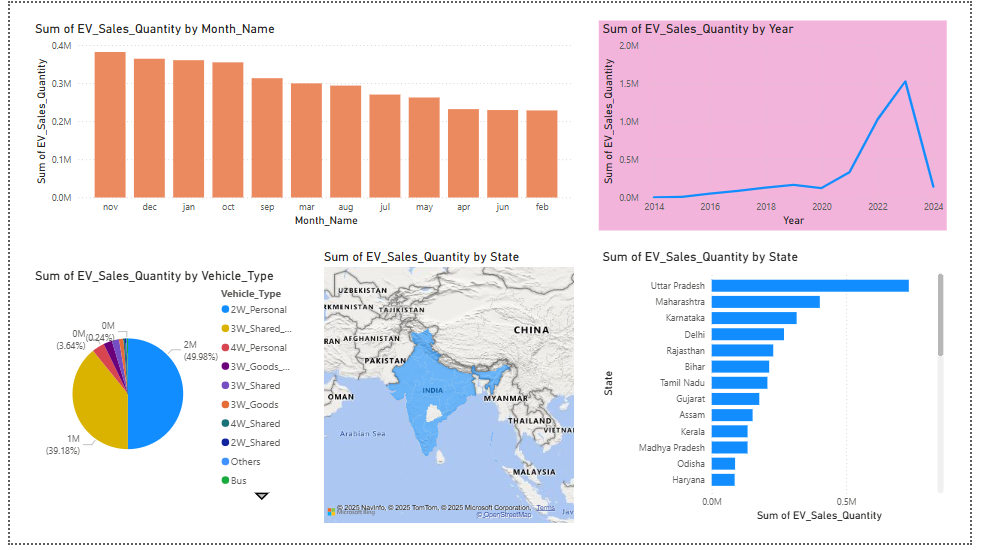

What the dashboard file says about the page in this screenshot:
{"tool":"powerbi","page":{"name":"Page 1","canvas":[1280,720],"ordinal":0},"visuals":[{"type":"lineChart","fields":{"Category":["Electric Vehicle Sales by State in India.Date.Variation.Date Hierarchy.Year"],"Y":["Sum(Electric Vehicle Sales by State in India.EV_Sales_Quantity)"]},"box":[785.7,22.9,464.3,280],"z":0},{"type":"filledMap","fields":{"Category":["Electric Vehicle Sales by State in India.State"]},"box":[413.3,328.3,343.3,370],"z":1000},{"type":"pieChart","fields":{"Category":["Electric Vehicle Sales by State in India.Vehicle_Type"],"Y":["Sum(Electric Vehicle Sales by State in India.EV_Sales_Quantity)"]},"box":[28.3,353.3,365,316.7],"z":2000},{"type":"clusteredColumnChart","fields":{"Category":["Electric Vehicle Sales by State in India.Month_Name"],"Y":["Sum(Electric Vehicle Sales by State in India.EV_Sales_Quantity)"]},"box":[28.3,23.3,728.3,280],"z":3000},{"type":"barChart","fields":{"Category":["Electric Vehicle Sales by State in India.State"],"Y":["Sum(Electric Vehicle Sales by State in India.EV_Sales_Quantity)"]},"box":[785,328.3,465,368.3],"z":4000}]}

Visuals, with their boxes in screenshot pixels (x1, y1, x2, y2), scaled from the page's 1280x720 canvas onto the 988x550 screenshot:
lineChart - Electric Vehicle Sales by State in India.Date.Variation.Date Hierarchy.Year x Sum(Electric Vehicle Sales by State in India.EV_Sales_Quantity): 606:17:965:231
filledMap - Electric Vehicle Sales by State in India.State: 319:251:584:533
pieChart - Electric Vehicle Sales by State in India.Vehicle_Type x Sum(Electric Vehicle Sales by State in India.EV_Sales_Quantity): 22:270:304:512
clusteredColumnChart - Electric Vehicle Sales by State in India.Month_Name x Sum(Electric Vehicle Sales by State in India.EV_Sales_Quantity): 22:18:584:232
barChart - Electric Vehicle Sales by State in India.State x Sum(Electric Vehicle Sales by State in India.EV_Sales_Quantity): 606:251:965:532
